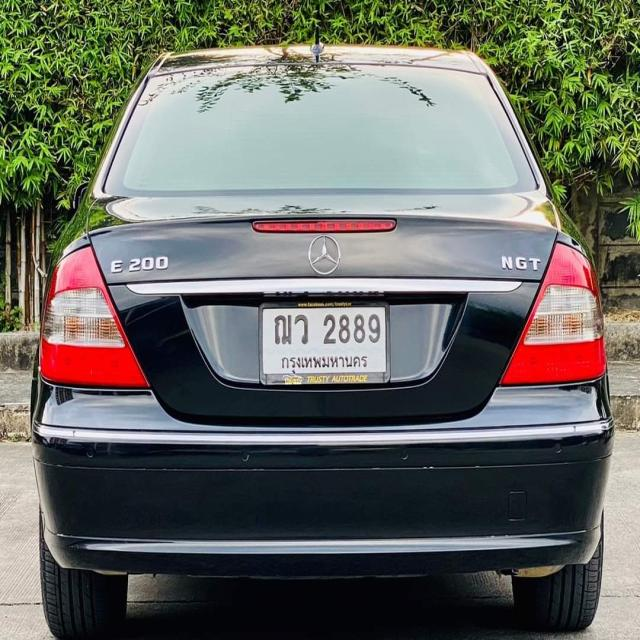license_plate: (259, 298, 393, 387)
